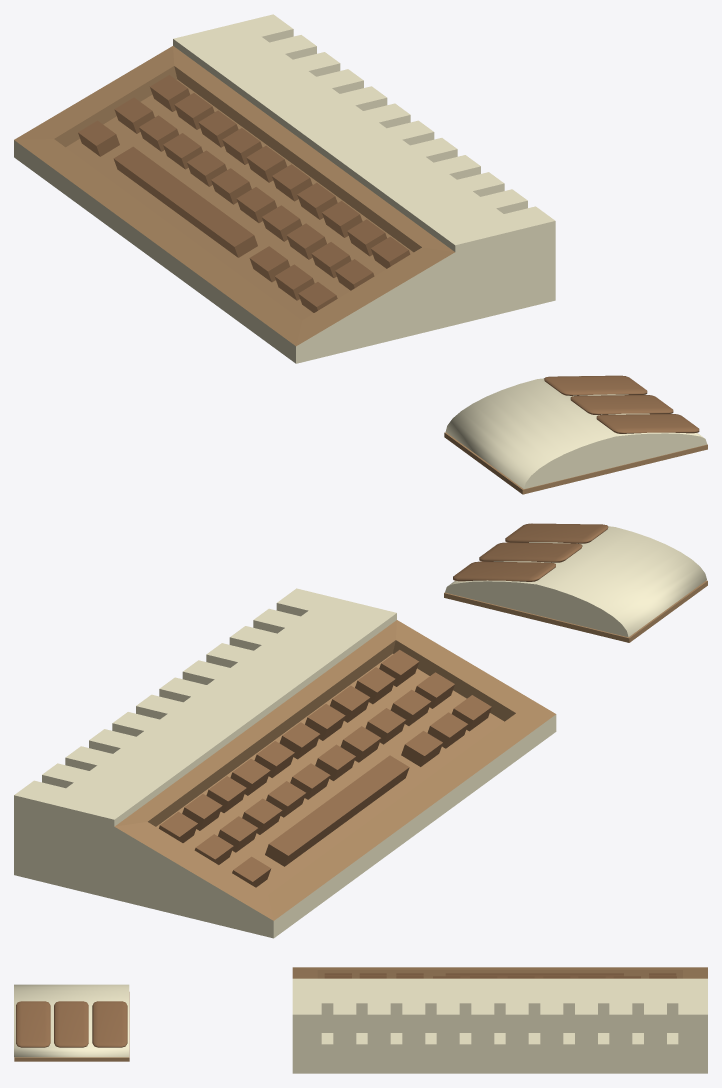
The model's file is Keyboard&Mouse_tier4.fbx.
3 renders of one model, top to bottom at view 1: azimuth 30°, elevation 25°; view 2: azimuth 150°, elevation 25°; view 3: azimuth 270°, elevation 25°, orthographic. The views are drawn at different scales.
Visible parts, largest first — view 1: Cube, Cube.023, Cube.024; view 2: Cube, Cube.023, Cube.024; view 3: Cube, Cube.024, Cube.023.
Boxes of the visible parts, x1=… form: Cube: x1=14, y1=14, x2=555, y2=363; Cube.023: x1=78, y1=75, x2=410, y2=312; Cube.024: x1=444, y1=375, x2=707, y2=494; Cube: x1=14, y1=588, x2=556, y2=938; Cube.023: x1=159, y1=650, x2=491, y2=887; Cube.024: x1=444, y1=523, x2=707, y2=642; Cube: x1=292, y1=967, x2=707, y2=1073; Cube.024: x1=14, y1=984, x2=129, y2=1061; Cube.023: x1=324, y1=973, x2=676, y2=978.
Size of the model in its own units: 0.3689 by 0.1105 by 1.16.
